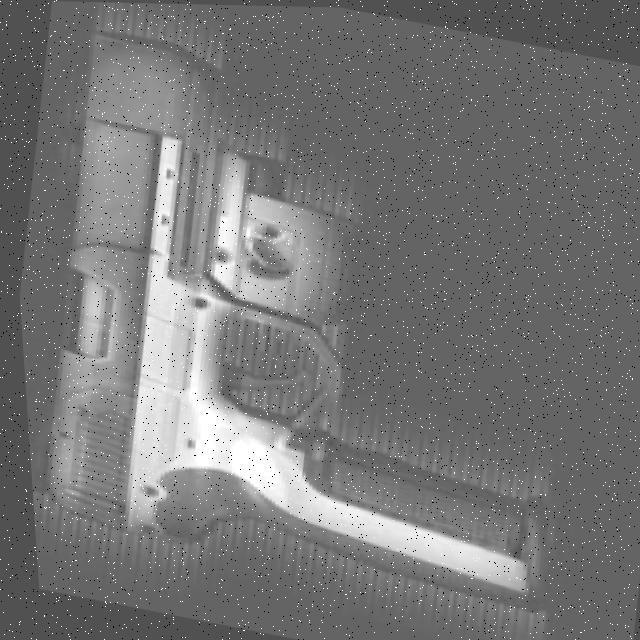pistol: (1, 20, 622, 612)
